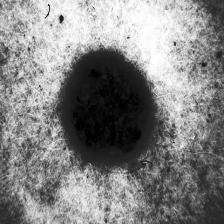Benign Marking or Mole: (67, 48, 154, 168)
